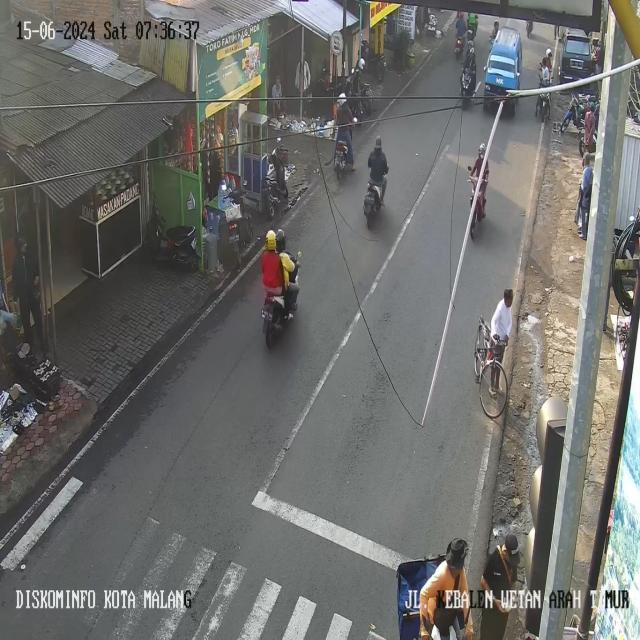Helmet: (265, 230, 276, 250), (276, 229, 285, 251), (337, 93, 347, 106), (478, 143, 486, 155), (375, 136, 382, 149), (358, 58, 364, 70), (545, 48, 552, 57), (467, 29, 472, 39)
